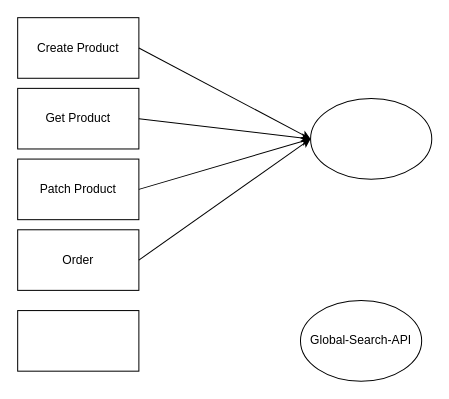
The diagram is 449 pixels wide and 399 high, and some of its shapes have lost their labels. The shapes that lost their labels are listed below. From the top down, each one's centre as x and y in pixels, then its label:
At [371,138]: "CAMS-API".
At [78,340]: "Search Product".
